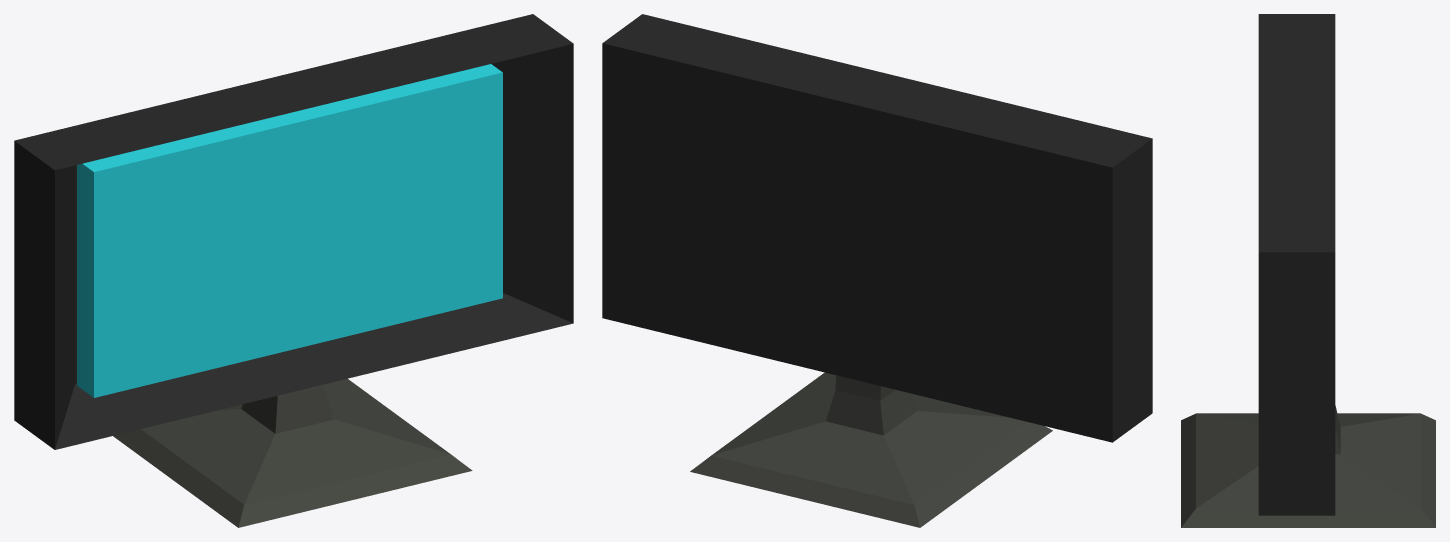
File: Monitor.fbx
3 renders of one model, left to right at view 1: azimuth 30°, elevation 25°; view 2: azimuth 150°, elevation 25°; view 3: azimuth 270°, elevation 25°, orthographic. The views are drawn at different scales.
Visible parts, largest first — view 1: Cube.006; view 2: Cube.006; view 3: Cube.006.
Part boxes in pixels (x1=…): Cube.006: x1=14, y1=14, x2=573, y2=527; Cube.006: x1=602, y1=14, x2=1152, y2=527; Cube.006: x1=1181, y1=14, x2=1435, y2=527.
Size of the model in its own units: 610 by 407 by 276.
